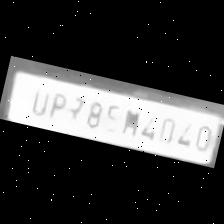0: (190, 118, 216, 154), (153, 111, 178, 146)
4: (171, 114, 198, 150), (138, 106, 164, 142)
8: (78, 96, 108, 132)
P: (43, 87, 70, 122)
U: (24, 84, 50, 118)
